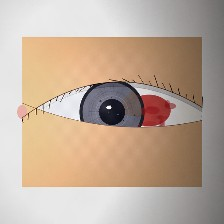hemorrhage_spot: (119, 86, 179, 135)
